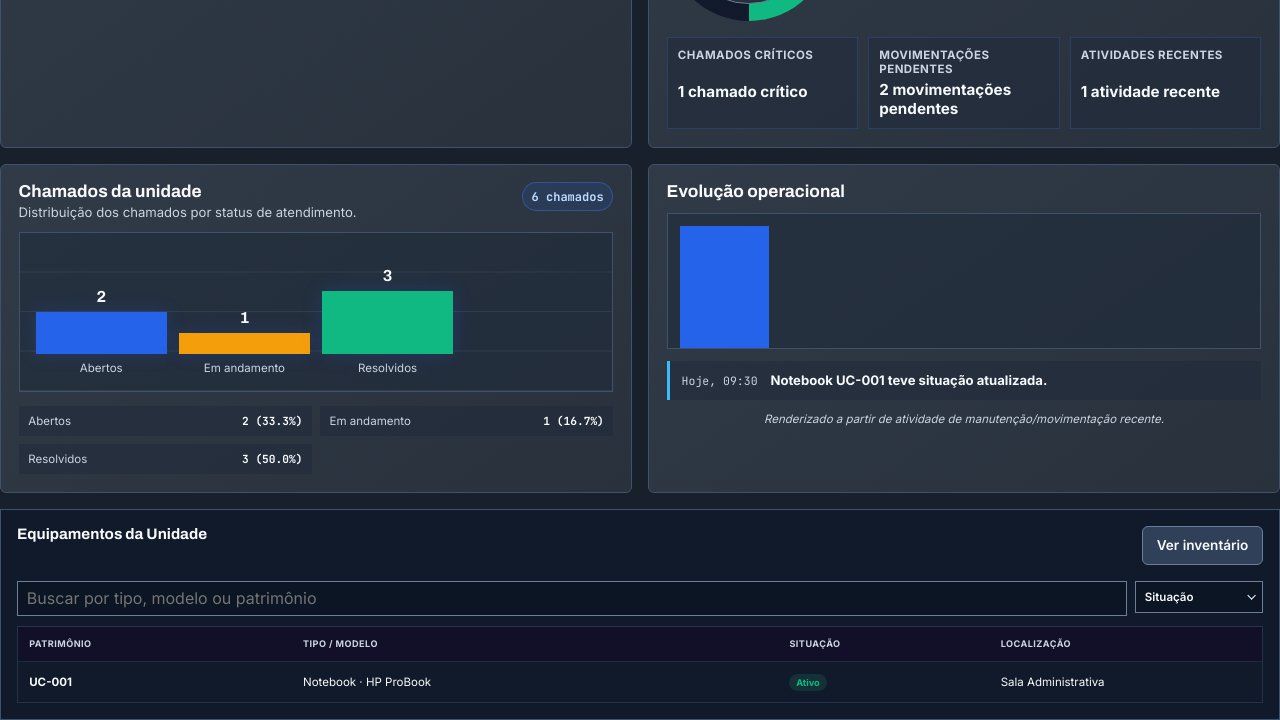
Test case: moves through situation options with arrow keys
(page scrolled)
Click the button with aria-label "Filtrar por situação" at point(1199, 597), box [1135, 581, 1263, 613]
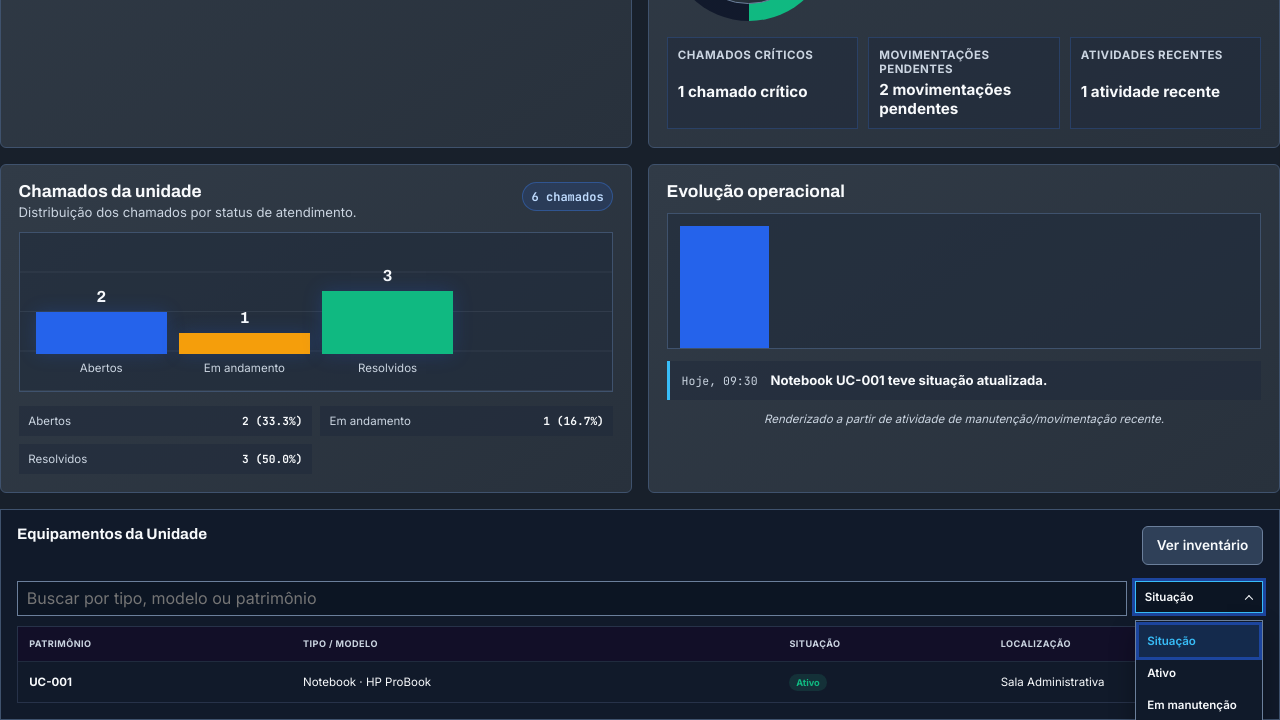
Press Arrowdown
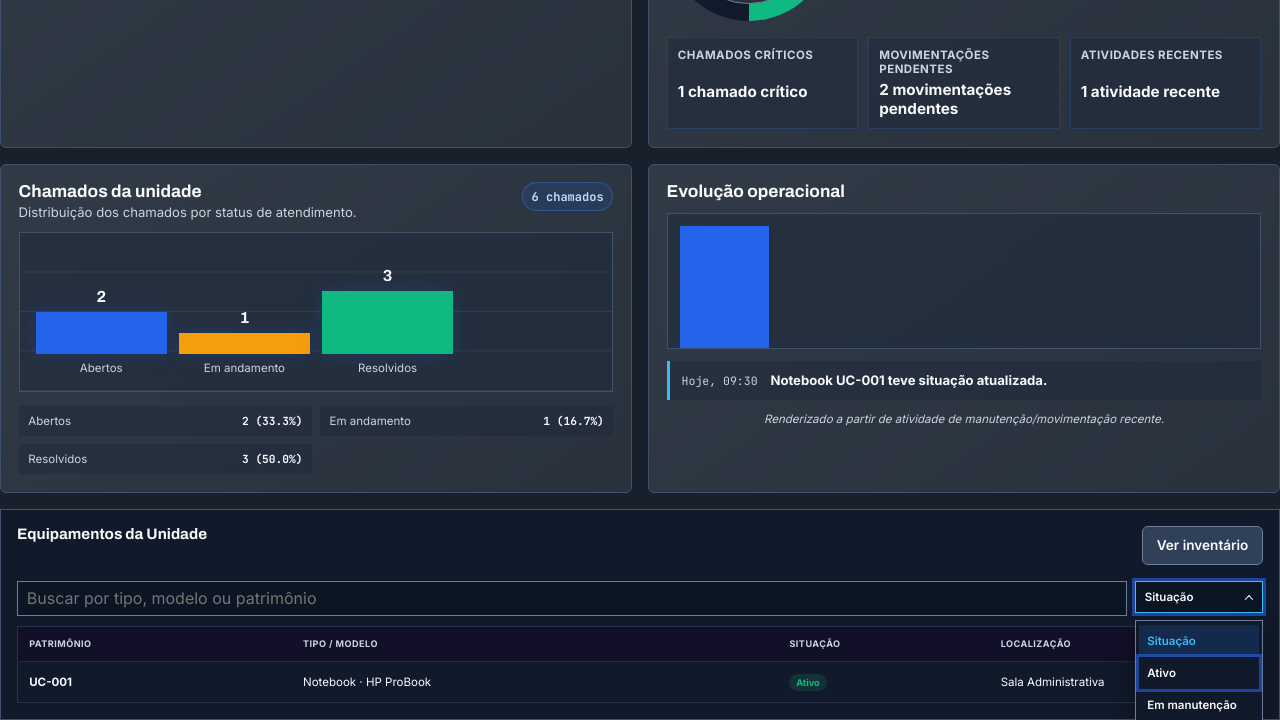
Press Enter
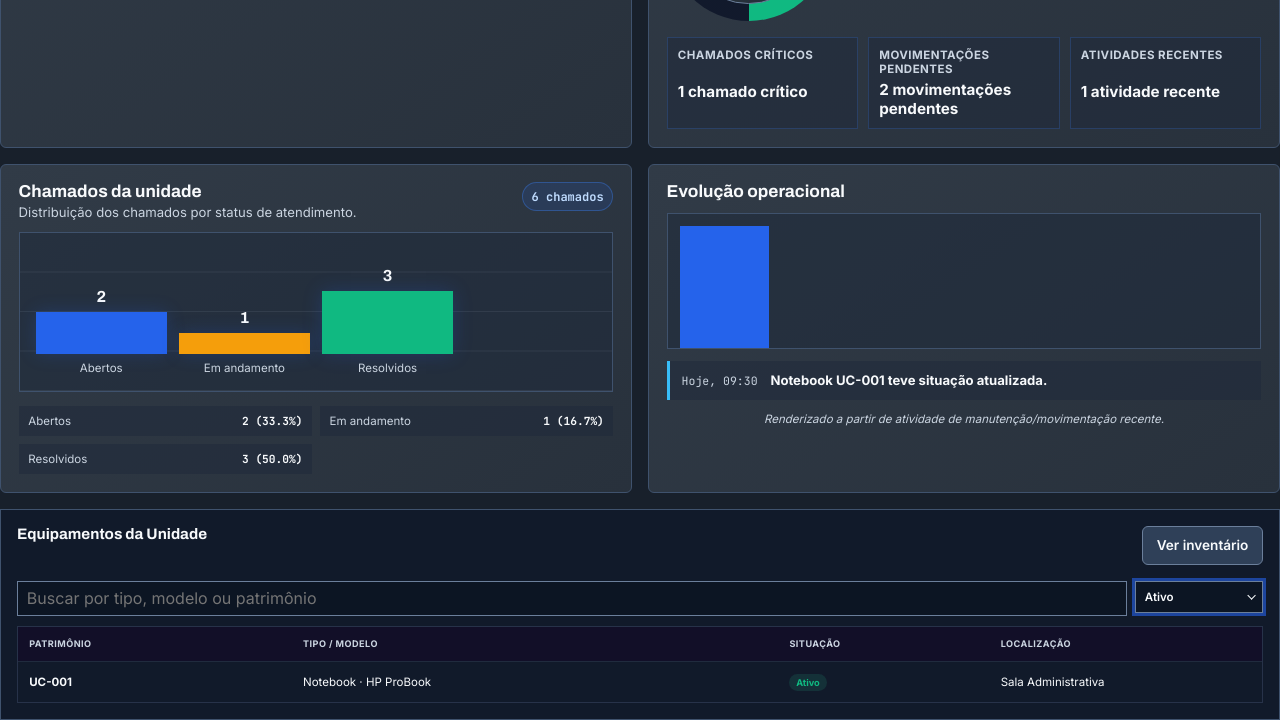
Check: the button with aria-label "Filtrar por situação" reads "Ativo", box [1135, 581, 1263, 613]
